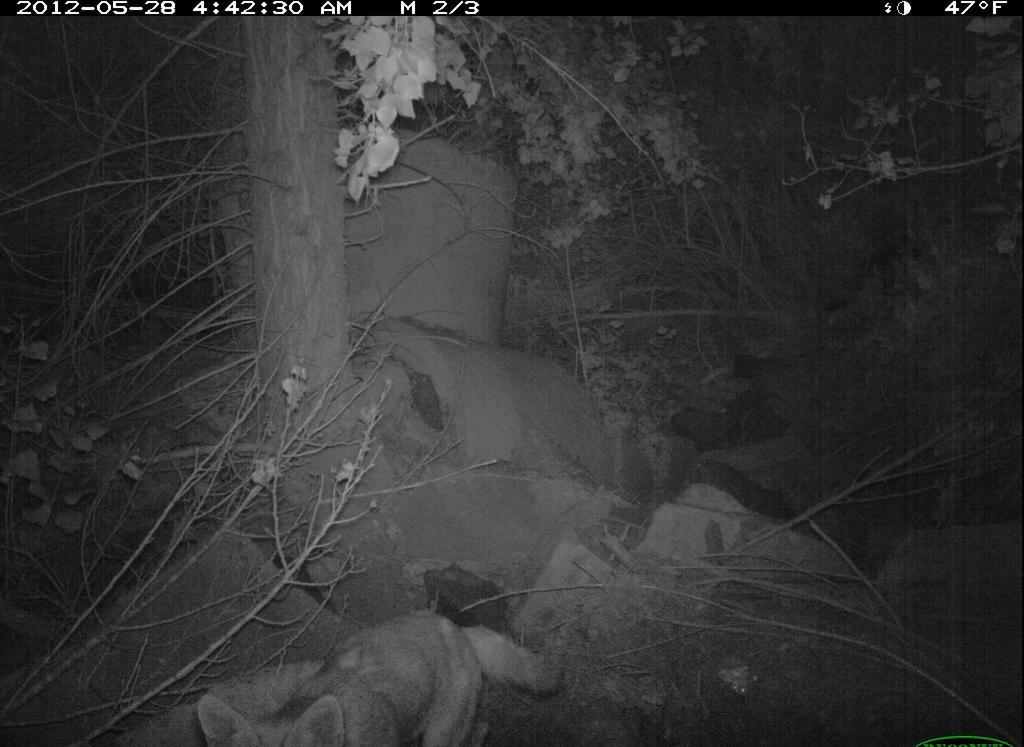coyote: (198, 606, 578, 744)
